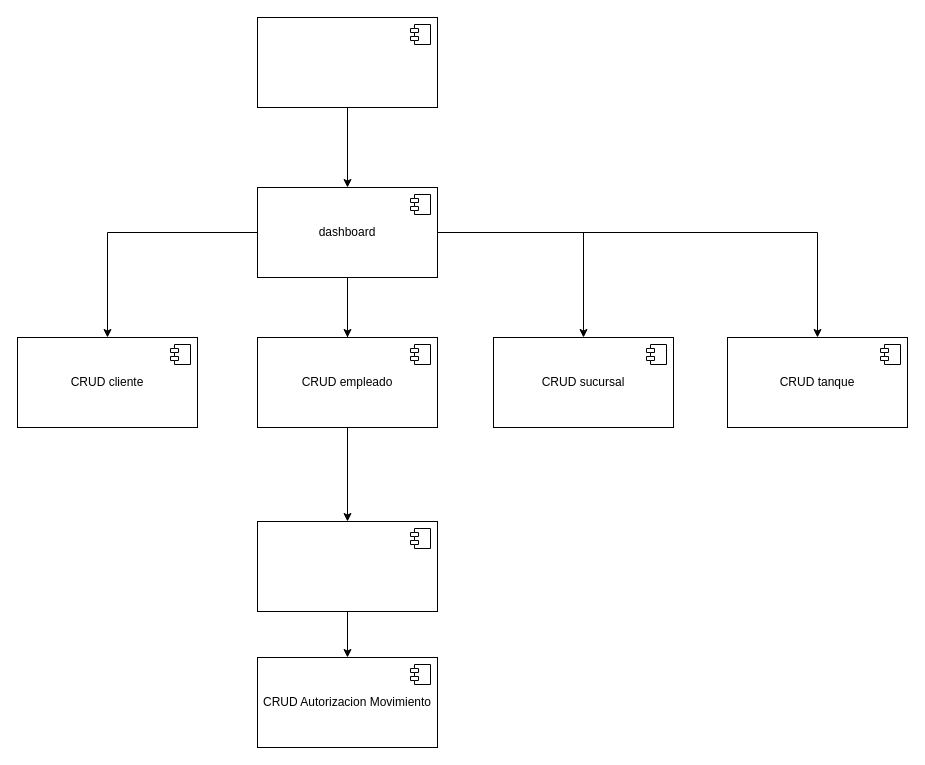
This 925x765 diagram has some shape labels left out. The shapes that lost their labels are listed below. From the top down, each one's box as (x1, y1, x2, y2) in pixels, then its label:
(256, 16, 438, 108): login
(256, 520, 438, 612): CRUD Movimiento
